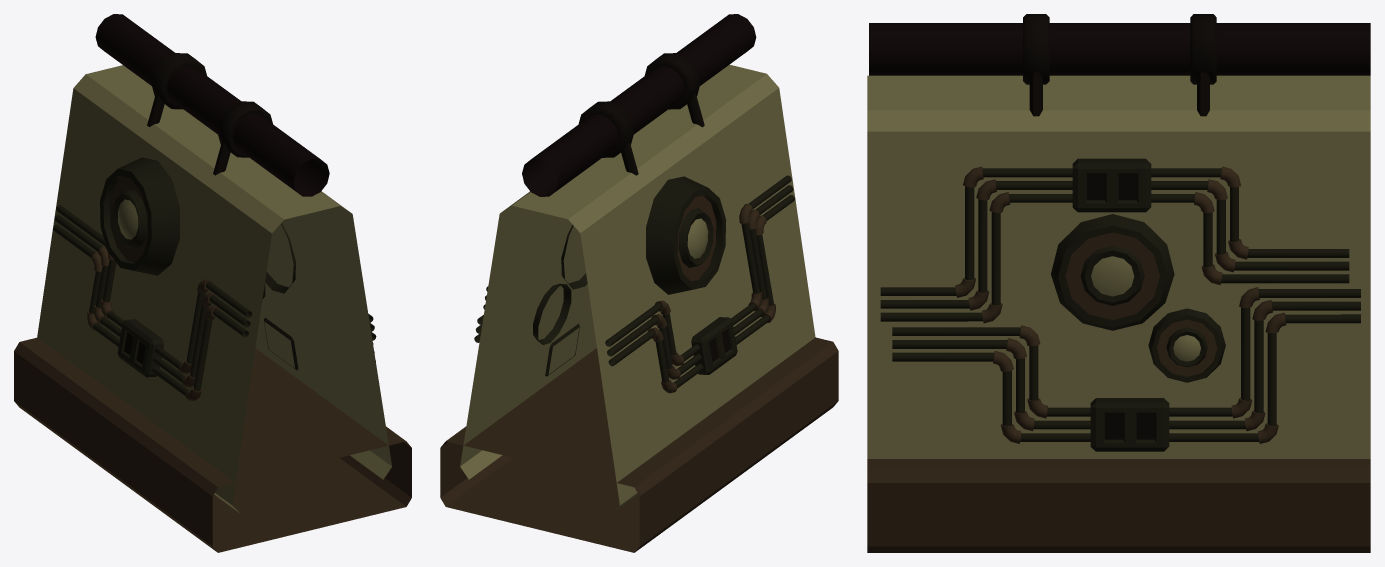
Rendered from OBJ_Mur_cone_1_VAR1.fbx.
The picture shows the model from 3 angles, left to right: view 1: azimuth 30°, elevation 25°; view 2: azimuth 150°, elevation 25°; view 3: azimuth 270°, elevation 25°; orthographic projection. The views are drawn at different scales.
Parts seen in each view (by area): view 1: Mur_Cone, Pipe, Cable, Ventilation; view 2: Mur_Cone, Pipe, Cable, Ventilation, Ventilation002; view 3: Mur_Cone, Pipe, Cable001, Cable002, Ventilation001, Ventilation002.
Boxes of the visible parts, bbox=[...] form: Mur_Cone: bbox=[14, 65, 411, 552]; Pipe: bbox=[95, 14, 329, 196]; Cable: bbox=[53, 205, 252, 401]; Ventilation: bbox=[100, 157, 179, 275]; Mur_Cone: bbox=[440, 64, 838, 552]; Pipe: bbox=[522, 14, 756, 196]; Cable: bbox=[605, 175, 794, 393]; Ventilation: bbox=[646, 176, 726, 294]; Ventilation002: bbox=[533, 283, 571, 344]; Mur_Cone: bbox=[867, 75, 1370, 552]; Pipe: bbox=[869, 14, 1370, 116]; Cable001: bbox=[880, 158, 1349, 323]; Cable002: bbox=[892, 287, 1360, 451]; Ventilation001: bbox=[1051, 214, 1174, 330]; Ventilation002: bbox=[1148, 308, 1225, 382].
Bounding box in the file's own units: 1311 × 2371 × 2265.
